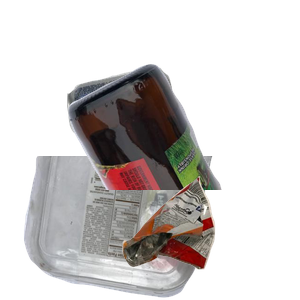glass: (66, 61, 300, 241)
metal: (65, 65, 231, 192)
plastic: (21, 156, 226, 300)
trash: (120, 174, 300, 300)
